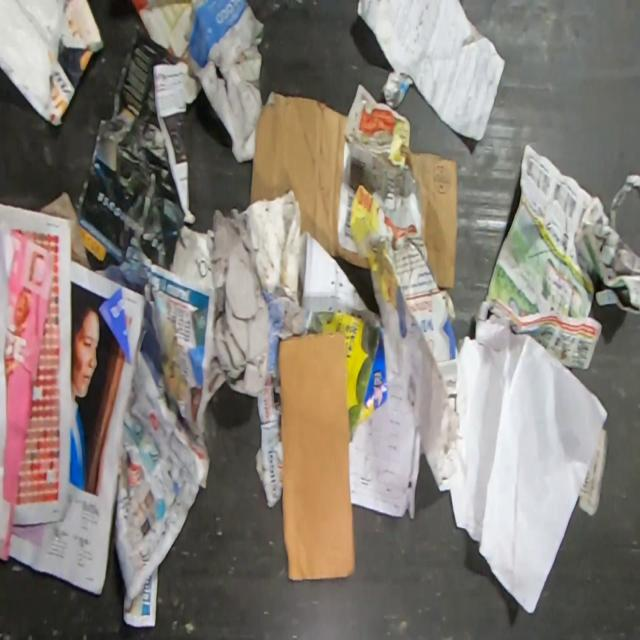cardboard: (249, 89, 458, 290), (276, 331, 355, 581)
